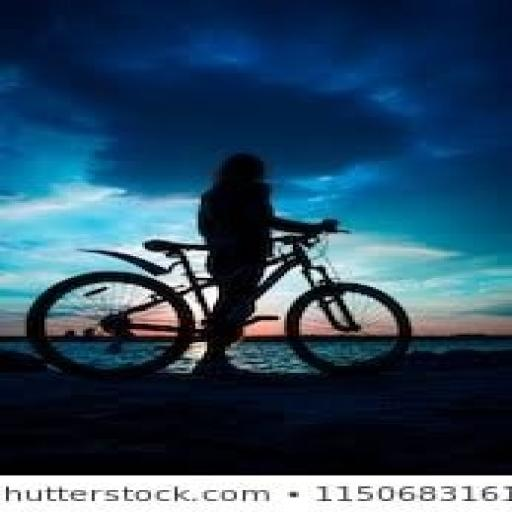cycling: (190, 150, 344, 371)
